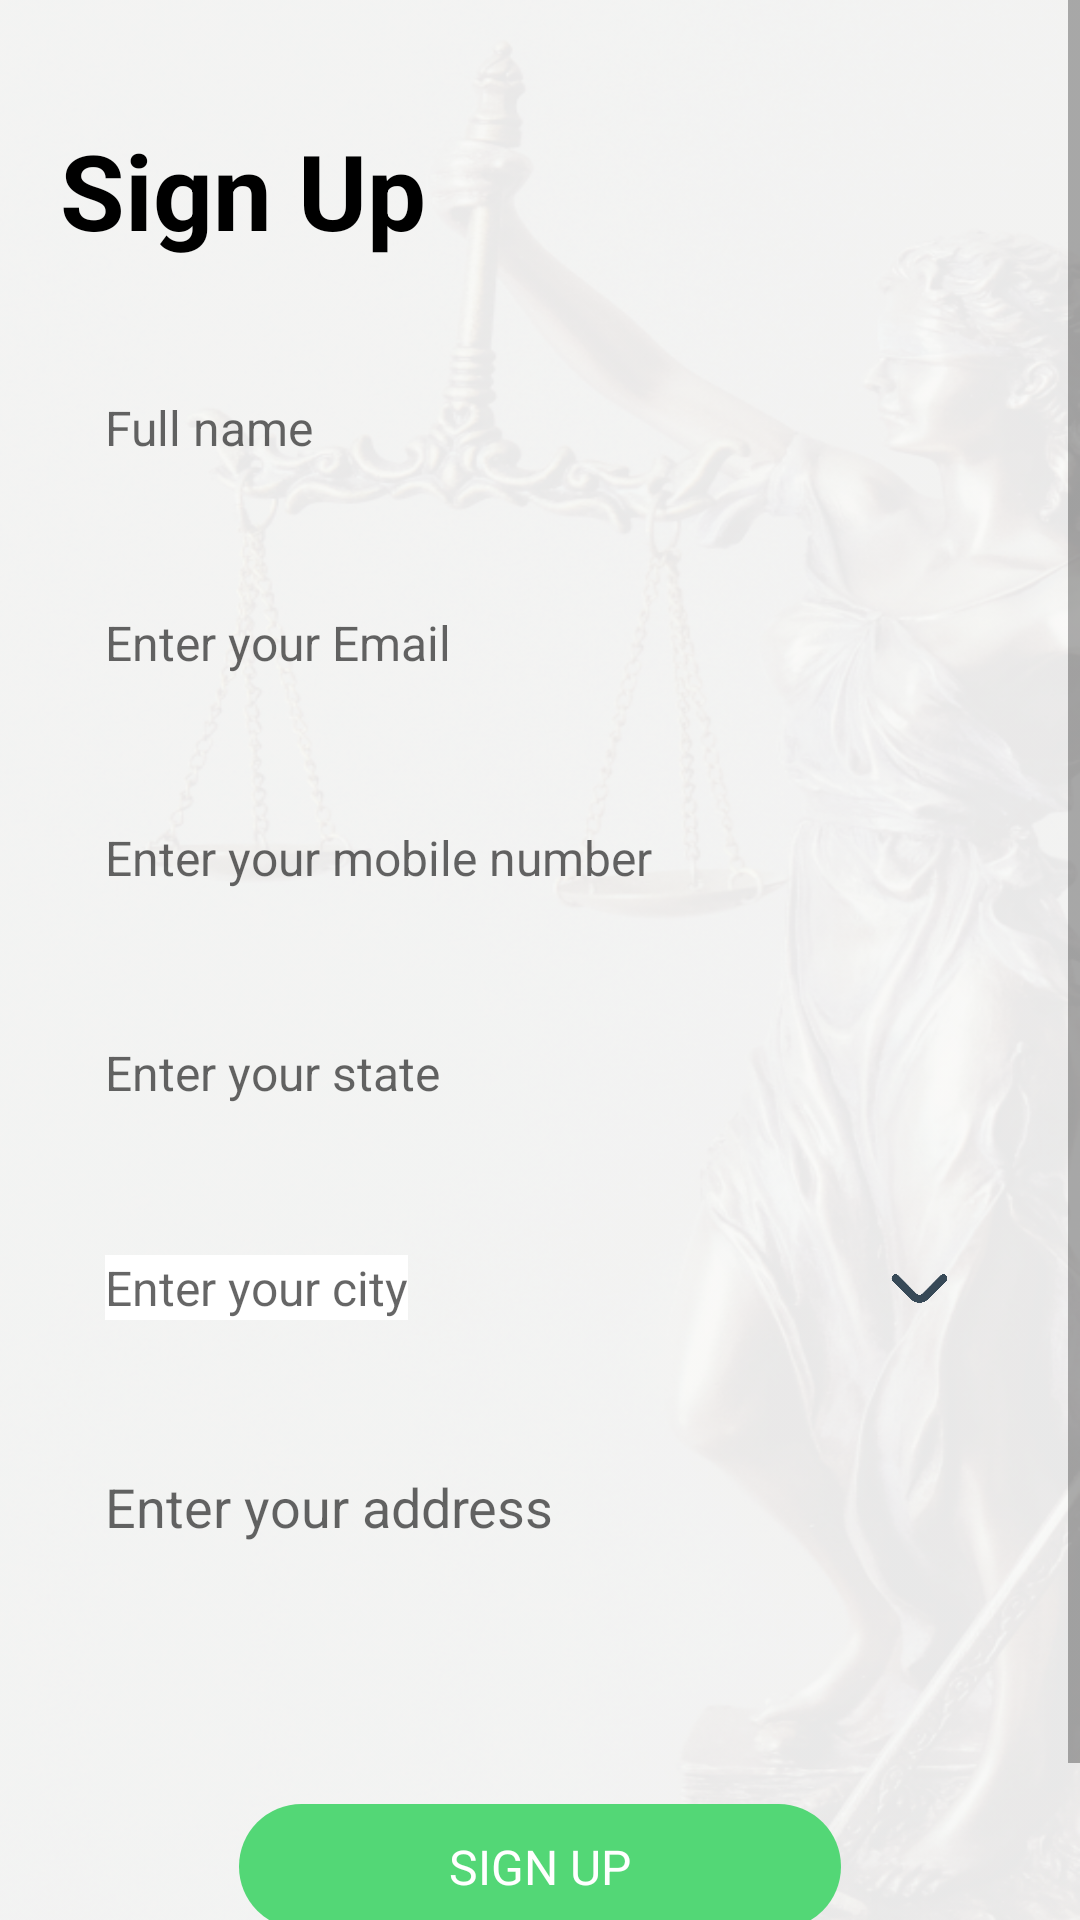

Icon bounding boxes for this 1080w x 1920h phone screenshot, format (x1,y1,x2,y2):
drop down: (891,1274,947,1303)
